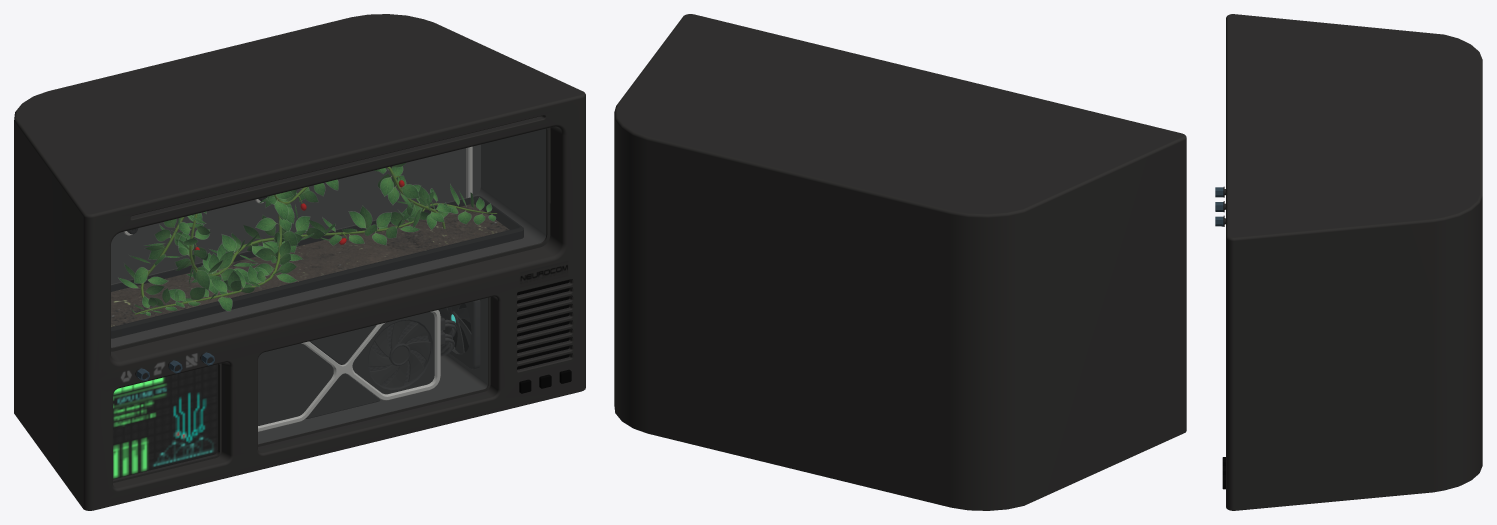
Rendered from plant_computer.glb.
The picture shows the model from 3 angles, left to right: view 1: azimuth 30°, elevation 25°; view 2: azimuth 150°, elevation 25°; view 3: azimuth 270°, elevation 25°; orthographic projection. The views are drawn at different scales.
Visible parts, largest first — view 1: Object_4, Object_3, Object_2; view 2: Object_4; view 3: Object_4.
Boxes of the visible parts, <box> form: Object_4: <box>14,14,585,510</box>; Object_3: <box>258,299,480,431</box>; Object_2: <box>118,163,497,315</box>; Object_4: <box>614,14,1186,510</box>; Object_4: <box>1215,14,1482,510</box>.
Bounding box in the file's own units: 0.7065 × 0.3979 × 0.3537.
Materials: 3 (3 with a texture image).
